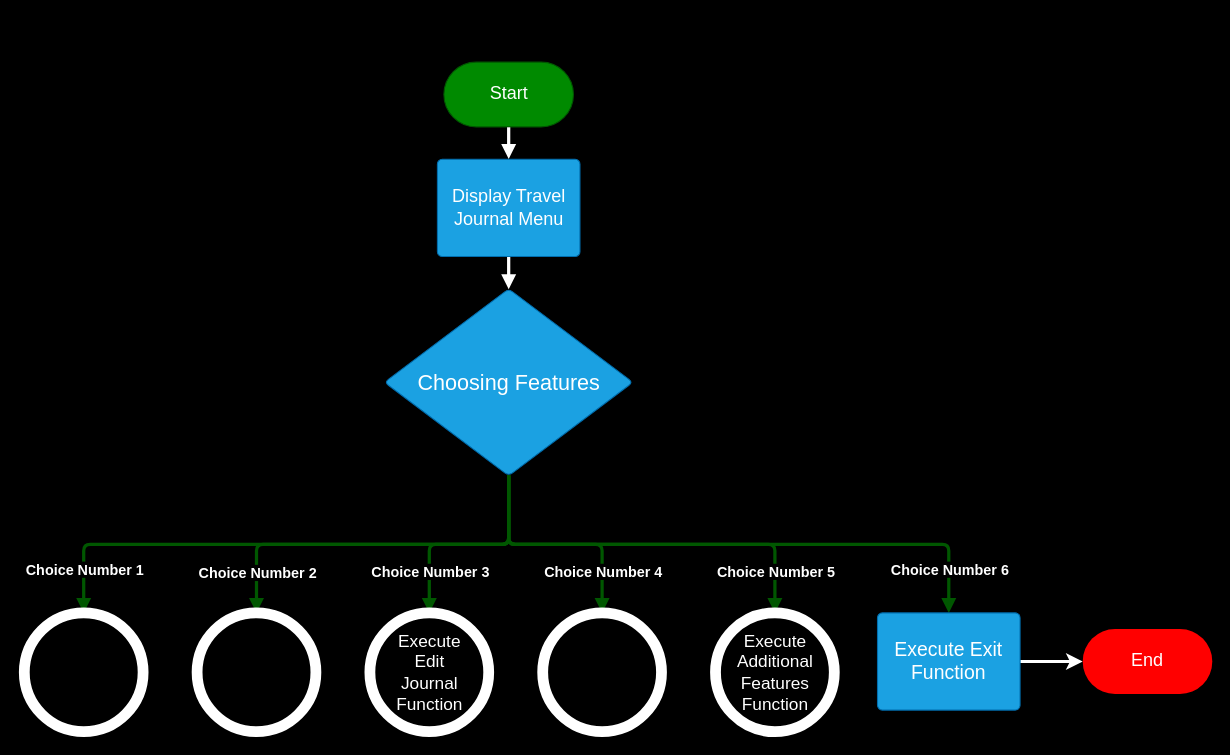
The diagram is 1230 pixels wide and 755 high, and some of its shapes have lost their labels. The centre of each missing label's shape, as x and y in pixels:
"Execute Add Journal Function" belongs at point 83,672.
"Execute Delete Journal Function" belongs at point 601,672.
"Execute Show Journal Function" belongs at point 256,672.
